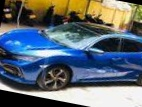car: (0, 7, 142, 107)
